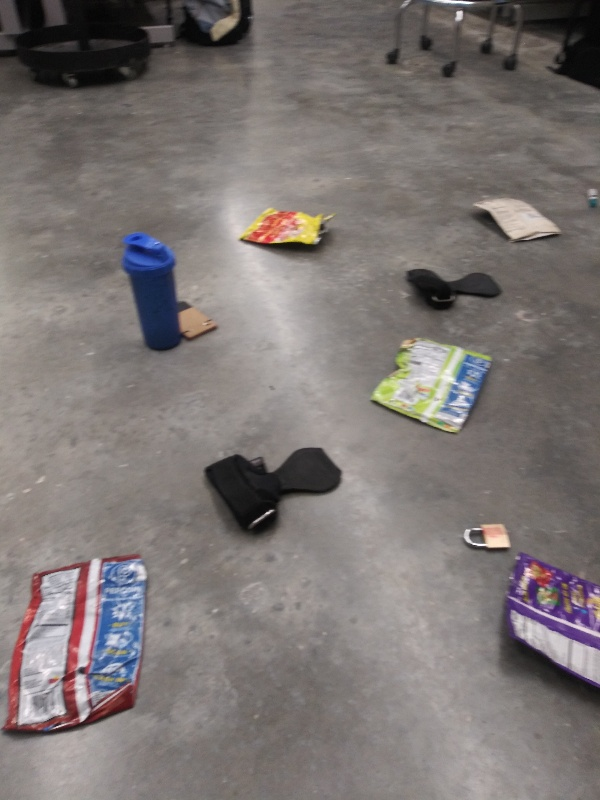bag: (1, 553, 156, 738), (496, 551, 600, 695), (365, 334, 493, 434), (464, 192, 567, 249), (233, 203, 338, 249)
